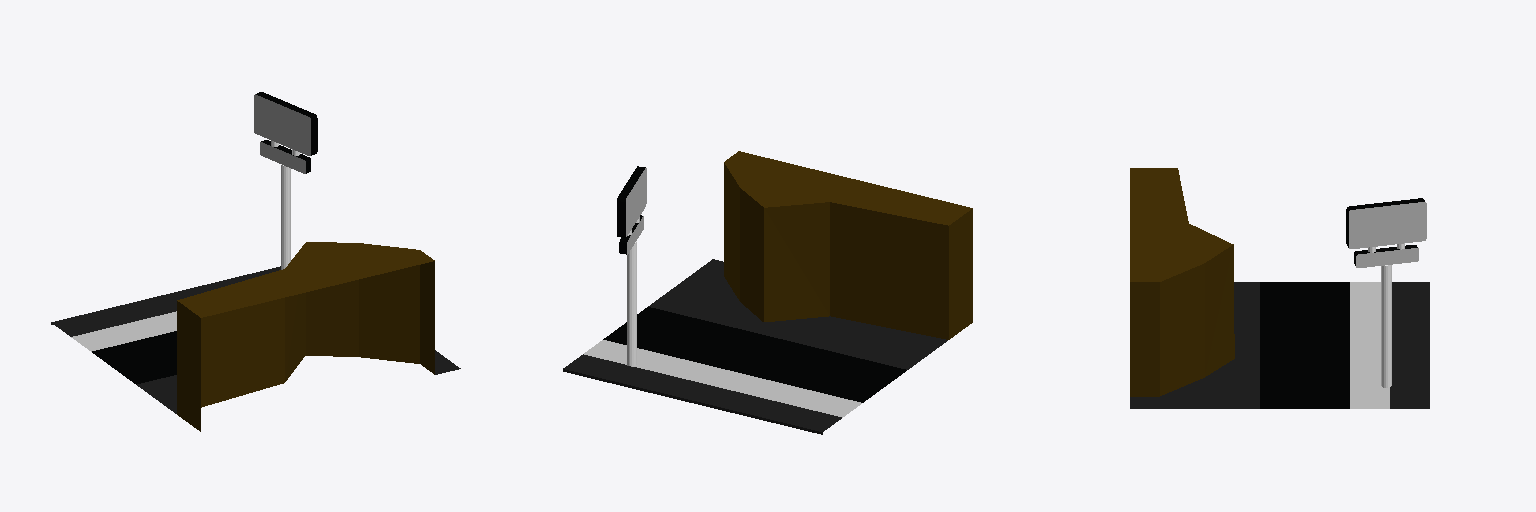
Rendered from 0A_carls_n.obj.
The picture shows the model from 3 angles: view 1: azimuth 30°, elevation 25°; view 2: azimuth 150°, elevation 25°; view 3: azimuth 270°, elevation 25°; orthographic projection.
Visible parts, largest first — view 1: 0A_carls_n_Plane.015; view 2: 0A_carls_n_Plane.015; view 3: 0A_carls_n_Plane.015.
Part boxes in pixels (x1,y1,x2,y2): 0A_carls_n_Plane.015: (51,92,460,431); 0A_carls_n_Plane.015: (563,151,972,434); 0A_carls_n_Plane.015: (1130,168,1429,408).
Size of the model in its own units: 4.48 by 3.04 by 4.48.